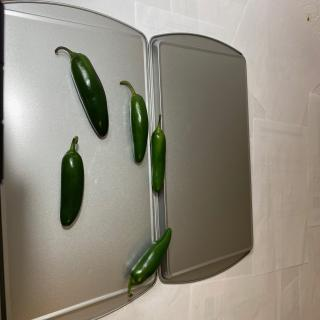Chilli: (127, 227, 172, 297)
Tomato: (54, 46, 109, 139), (120, 80, 148, 164), (60, 136, 84, 227), (151, 114, 166, 193)
